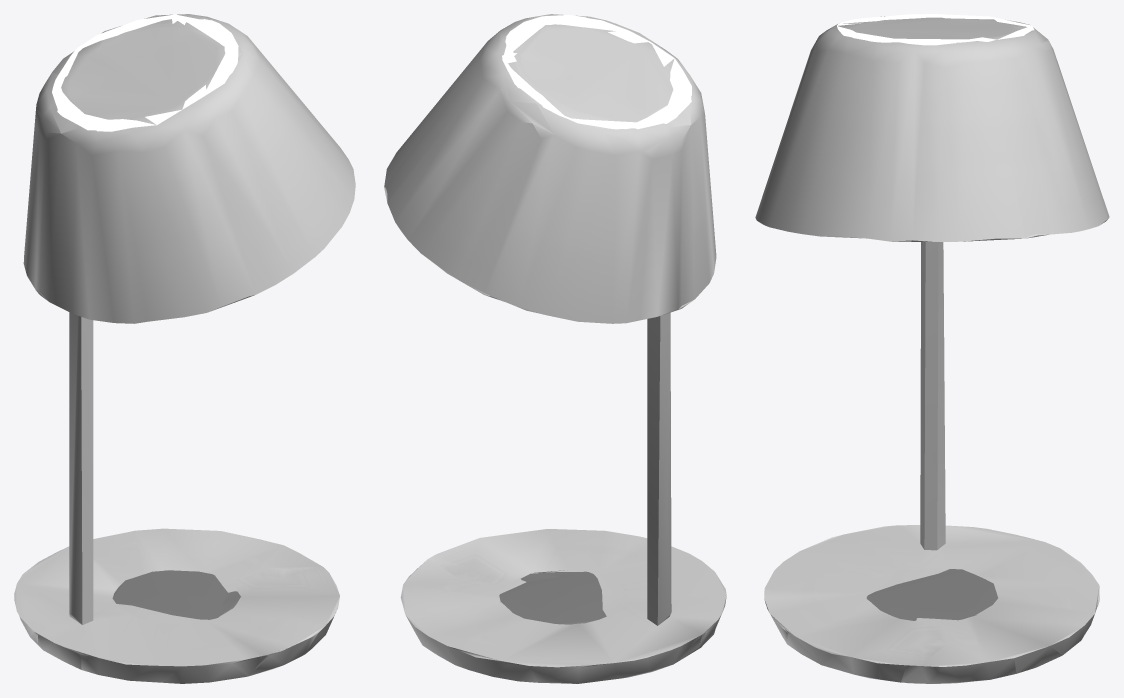
The model's file is simready-lamp-bedside.lite.f42e1c70.glb.
The picture shows the model from 3 angles, left to right: view 1: azimuth 30°, elevation 25°; view 2: azimuth 150°, elevation 25°; view 3: azimuth 270°, elevation 25°; orthographic projection. The views are drawn at different scales.
Visible parts, largest first — view 1: model; view 2: model; view 3: model.
Part boxes in pixels (x1,y1,x2,y2): model: (14,14,355,683); model: (384,14,726,683); model: (755,14,1109,683).
Bounding box in the file's own units: 0.1978 × 0.3714 × 0.1985.
Materials: 5 (4 with a texture image).
